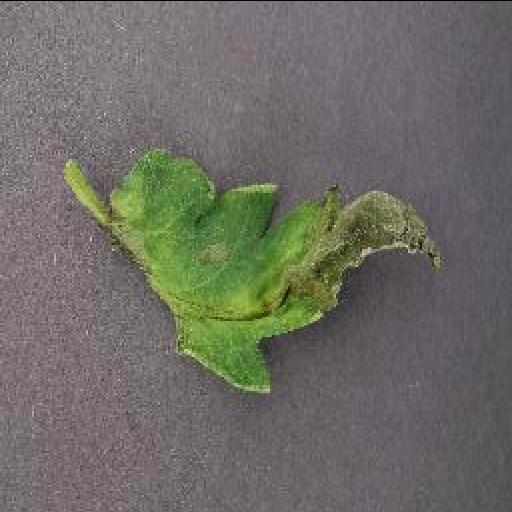disease_tomato: (102, 146, 448, 392)
